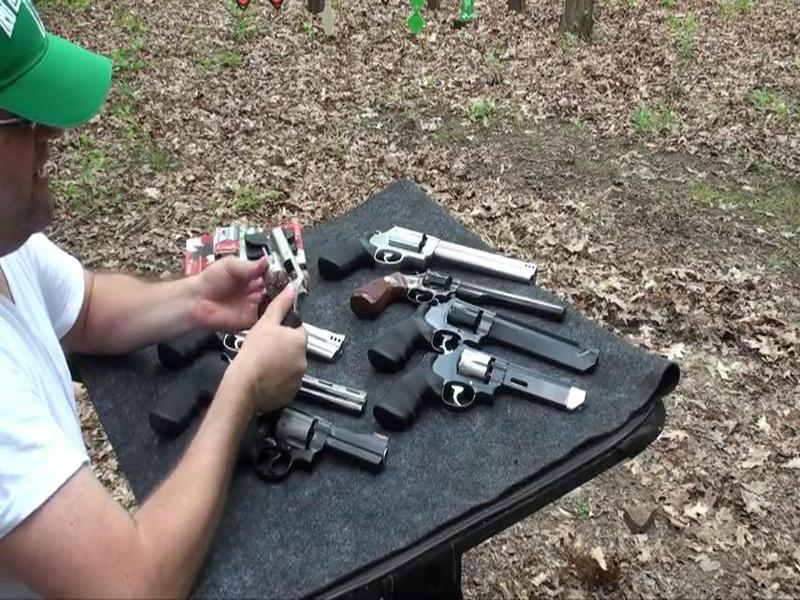Revolver: (239, 213, 310, 335)
